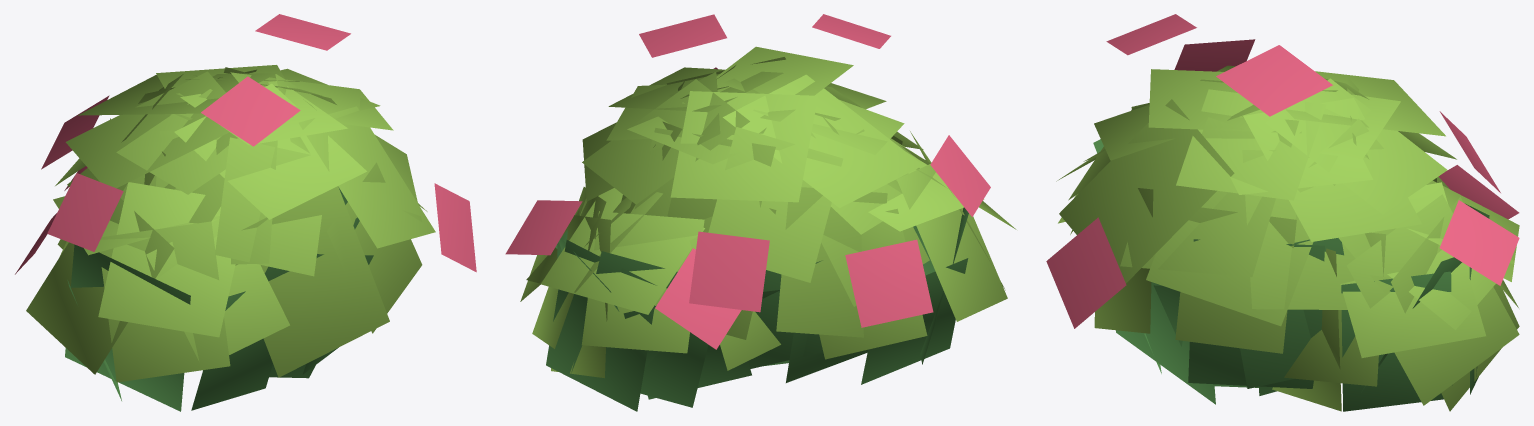
The model's file is plant_bush_2_lod1.glb.
3 renders of one model, left to right at view 1: azimuth 30°, elevation 25°; view 2: azimuth 150°, elevation 25°; view 3: azimuth 270°, elevation 25°, orthographic. The views are drawn at different scales.
Visible parts, largest first — view 1: plant_bush_2; view 2: plant_bush_2; view 3: plant_bush_2.
Part boxes in pixels (x1,y1,x2,y2): plant_bush_2: (15, 14, 476, 411); plant_bush_2: (505, 14, 1016, 411); plant_bush_2: (1046, 14, 1519, 411).
Size of the model in its own units: 1.77 by 1.38 by 1.8.
